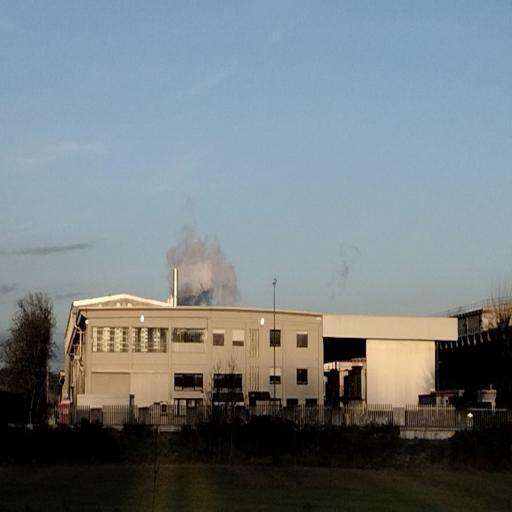leakage: (164, 222, 246, 310)
